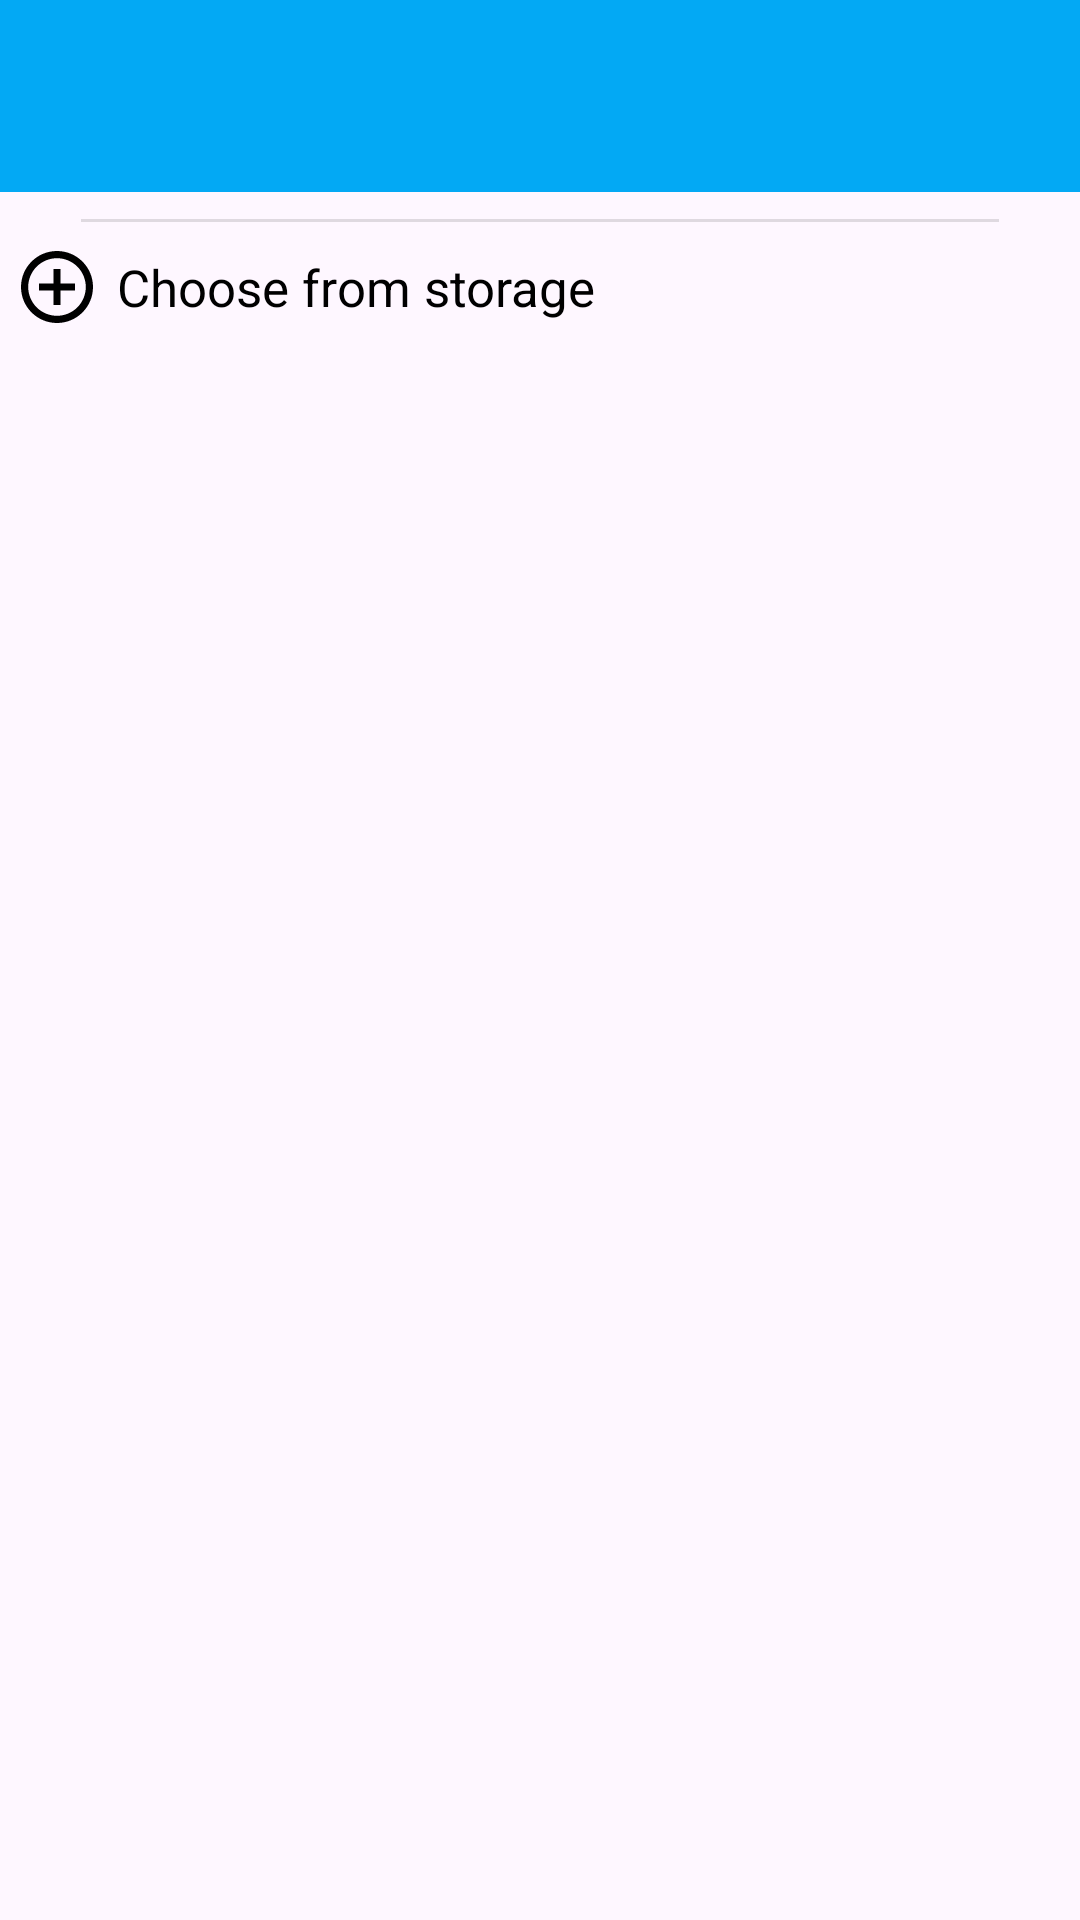

Named icons in this screenshot (1080*1920) and their bounding boxes, (x1, y1, x2, y2):
add: (21, 251, 93, 323)
